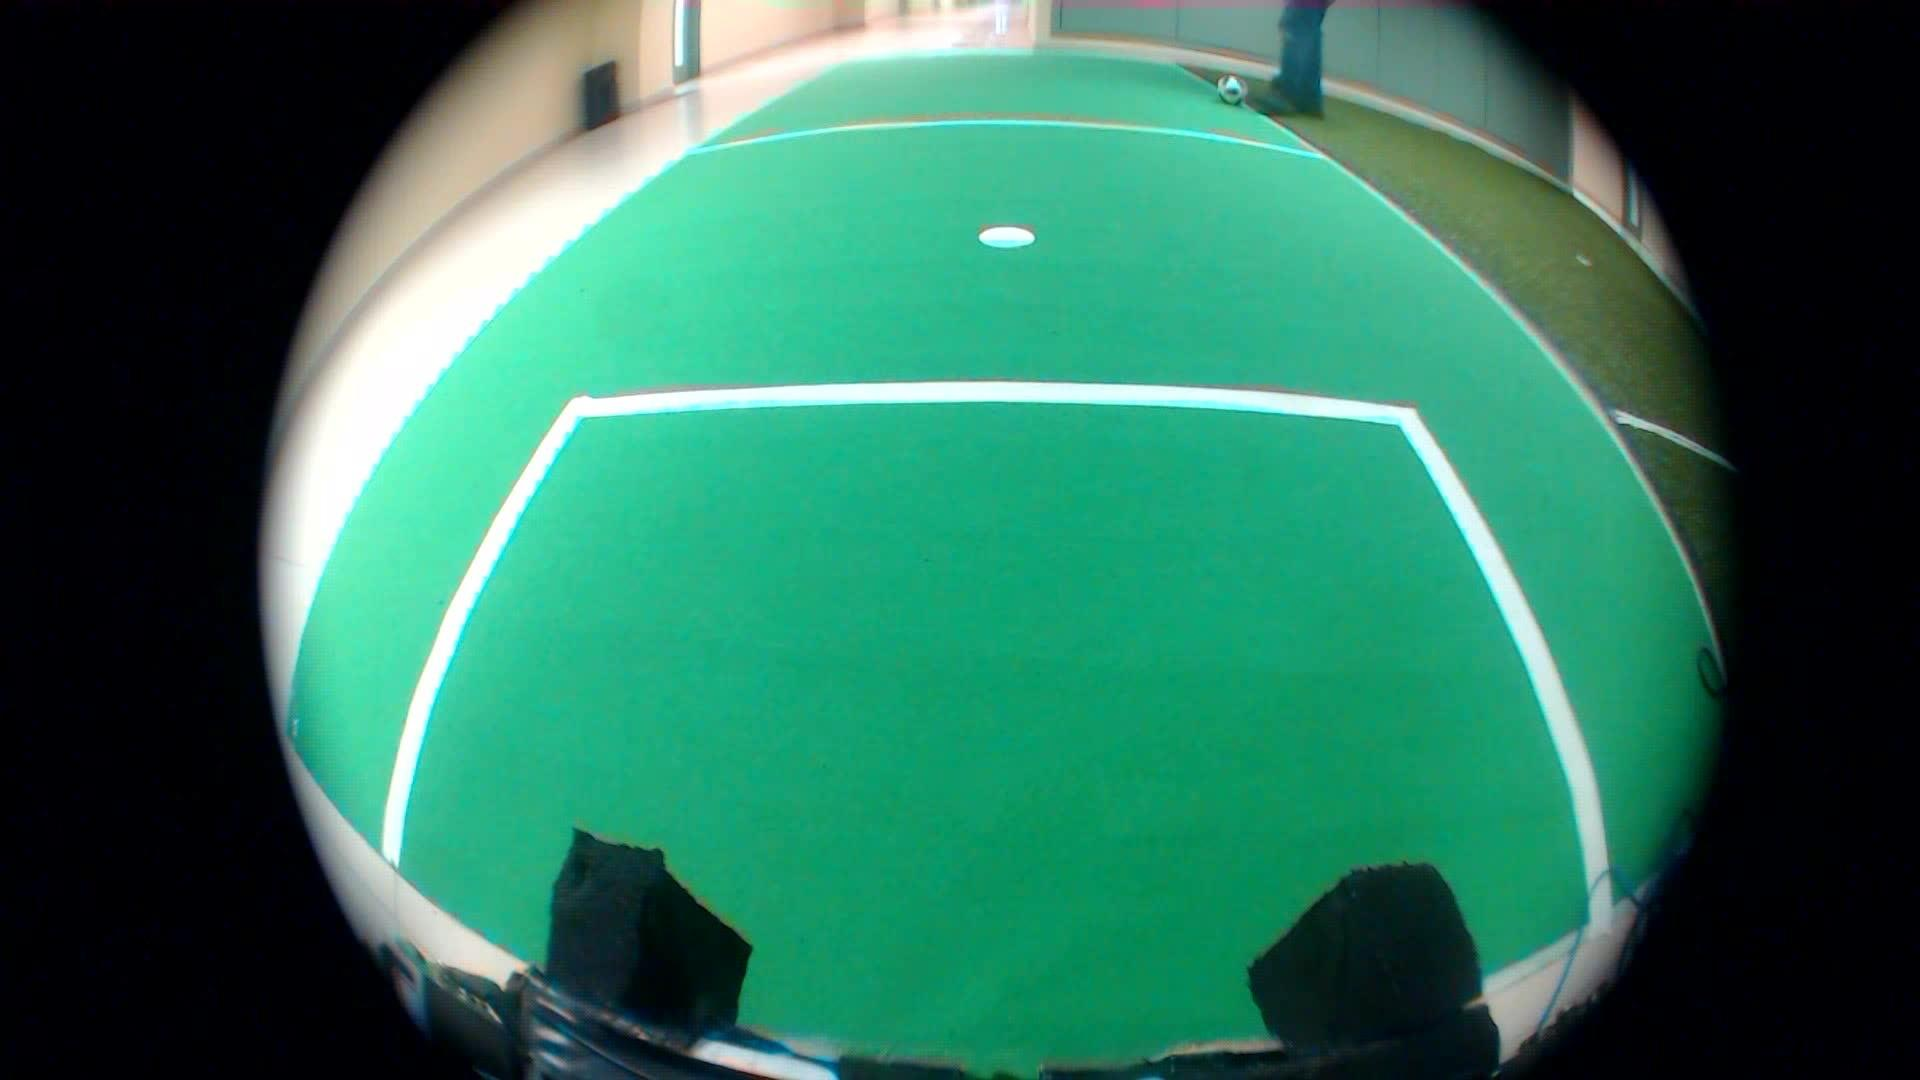ball: (1208, 63, 1247, 107)
